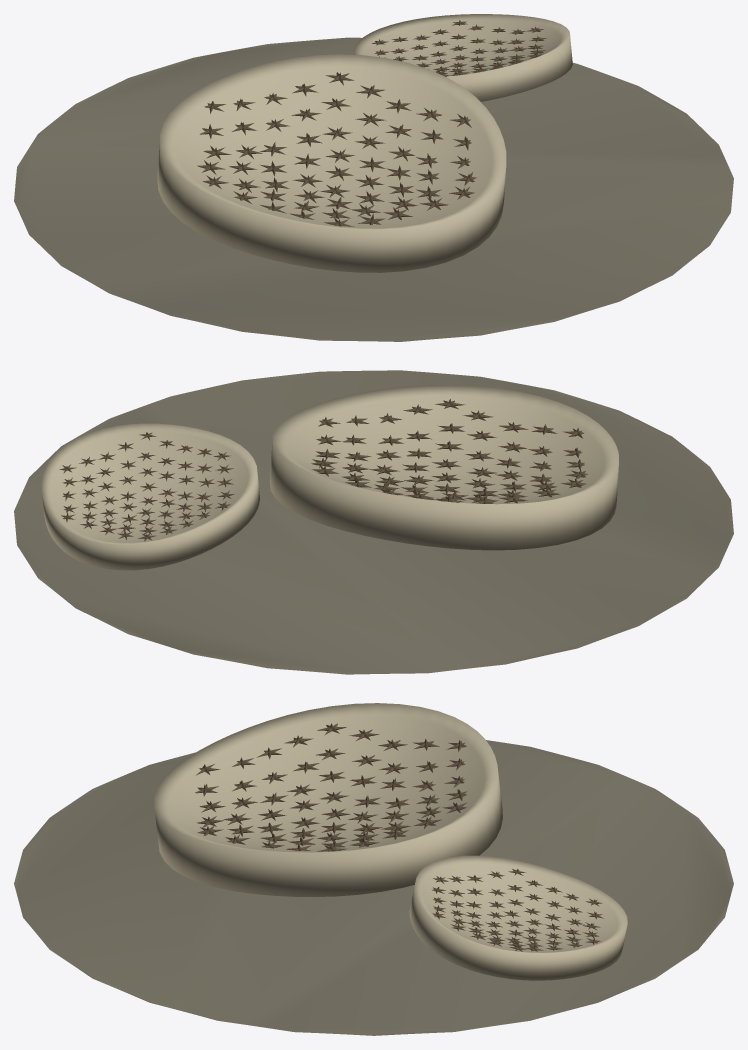
Rendered from AstraeospongiumMeniscum.fbx.
3 views of the same model, one above another, from view 1: azimuth 30°, elevation 25°; view 2: azimuth 150°, elevation 25°; view 3: azimuth 270°, elevation 25° (orthographic).
Visible parts, largest first — view 1: AstraeospongiumMeniscum; view 2: AstraeospongiumMeniscum; view 3: AstraeospongiumMeniscum.
Part boxes in pixels (x1,y1,x2,y2): AstraeospongiumMeniscum: (14, 14, 733, 341); AstraeospongiumMeniscum: (14, 370, 733, 674); AstraeospongiumMeniscum: (14, 703, 733, 1035).
Bounding box in the file's own units: 2 × 0.2804 × 2.
